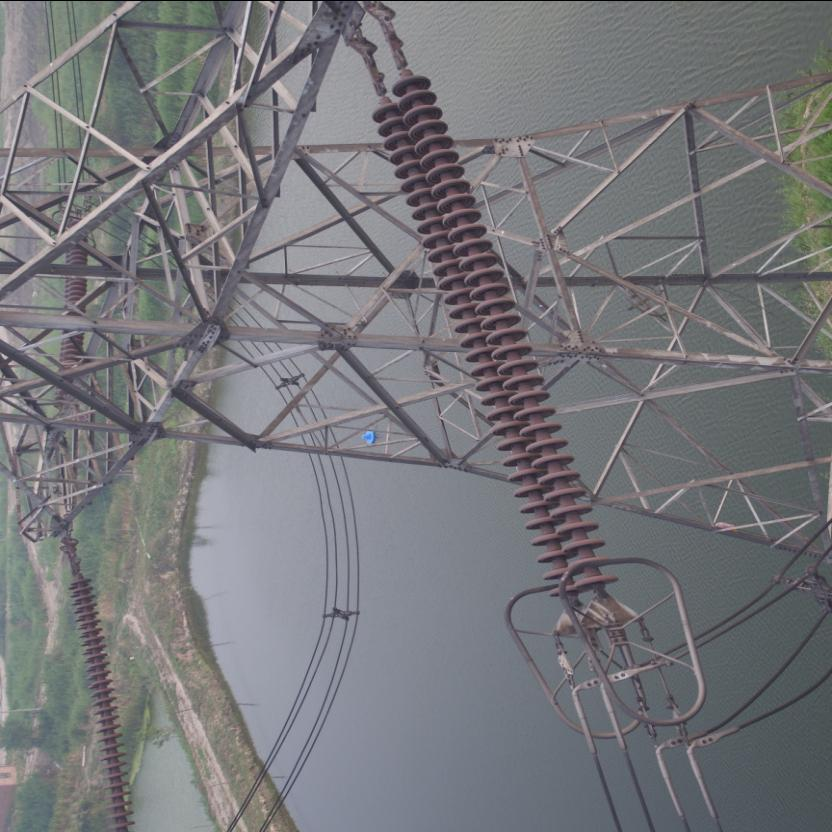insulator: (363, 56, 621, 602), (64, 582, 136, 832)
